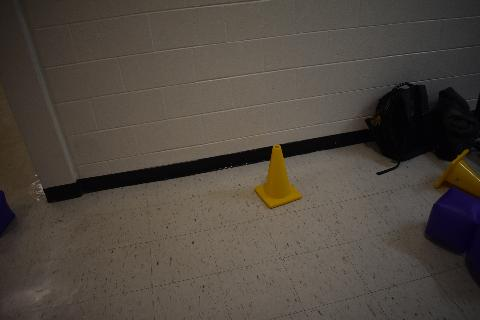cone: (256, 145, 302, 209), (434, 150, 480, 197)
cube: (426, 185, 480, 252), (466, 224, 480, 278)
